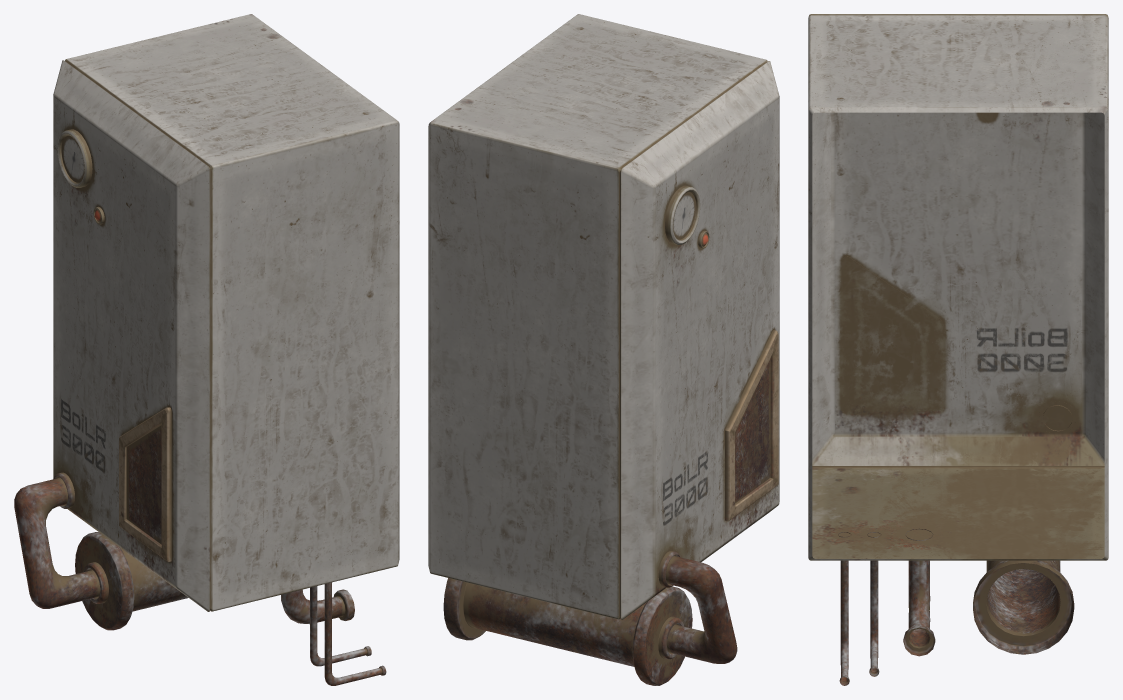
The model's file is SM_boiler.fbx.
The picture shows the model from 3 angles, left to right: view 1: azimuth 30°, elevation 25°; view 2: azimuth 150°, elevation 25°; view 3: azimuth 270°, elevation 25°; orthographic projection.
Visible parts, largest first — view 1: SM_boiler_LOD0; view 2: SM_boiler_LOD0; view 3: SM_boiler_LOD0.
Part boxes in pixels (x1,y1,x2,y2): SM_boiler_LOD0: (14, 14, 399, 685); SM_boiler_LOD0: (428, 14, 779, 685); SM_boiler_LOD0: (808, 14, 1108, 685).
Size of the model in its own units: 51.07 by 49.5 by 105.
